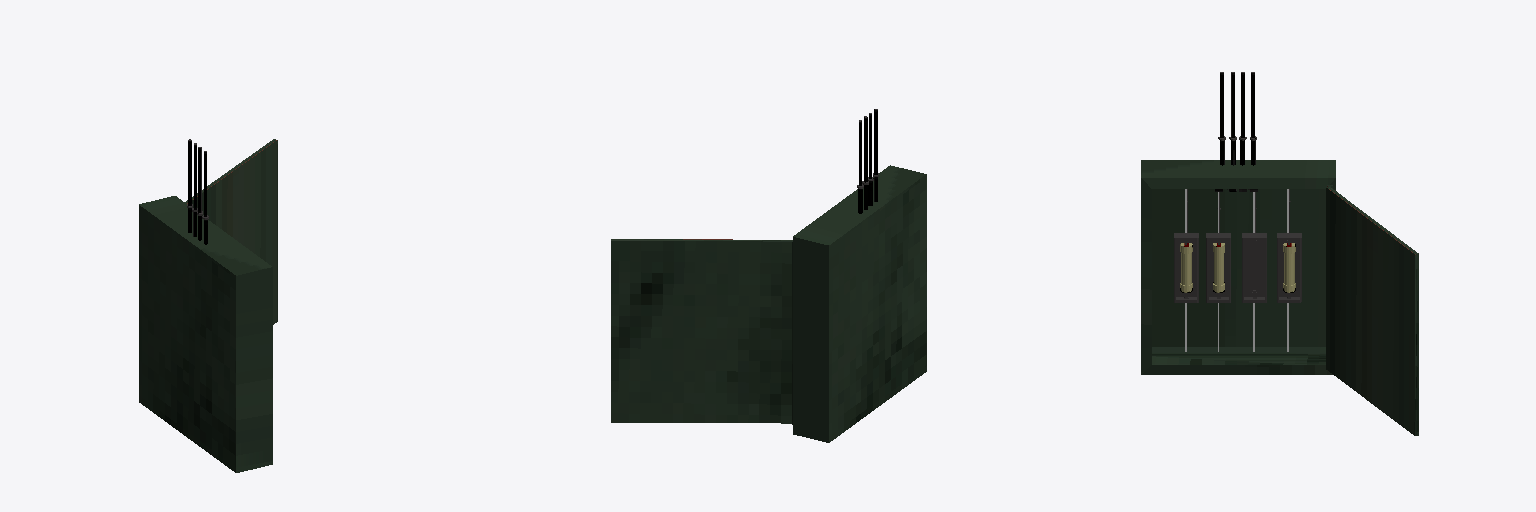
3 views of the same model, side by side, from view 1: azimuth 30°, elevation 25°; view 2: azimuth 150°, elevation 25°; view 3: azimuth 270°, elevation 25° (orthographic).
Visible parts, largest first — view 1: Cube_Cube.035, Cube.009_Cube.009; view 2: Cube.009_Cube.009, Cube_Cube.035; view 3: Cube_Cube.035, Cube.009_Cube.009, Cube.036_Cube.002, Cube.034_Cube.002, Cube.032_Cube.002, Cube.038_Cube.002, Cube.031_Cube.002, Cube.037_Cube.002, Cube.033_Cube.003.
Boxes of the visible parts, x1=… form: Cube_Cube.035: x1=139, y1=196, x2=272, y2=472; Cube.009_Cube.009: x1=185, y1=139, x2=277, y2=324; Cube.009_Cube.009: x1=611, y1=239, x2=792, y2=423; Cube_Cube.035: x1=793, y1=165, x2=926, y2=442; Cube_Cube.035: x1=1141, y1=160, x2=1335, y2=374; Cube.009_Cube.009: x1=1326, y1=187, x2=1418, y2=435; Cube.036_Cube.002: x1=1242, y1=233, x2=1266, y2=302; Cube.034_Cube.002: x1=1206, y1=233, x2=1230, y2=302; Cube.032_Cube.002: x1=1174, y1=233, x2=1198, y2=302; Cube.038_Cube.002: x1=1277, y1=233, x2=1301, y2=302; Cube.031_Cube.002: x1=1180, y1=243, x2=1192, y2=292; Cube.037_Cube.002: x1=1283, y1=243, x2=1295, y2=292; Cube.033_Cube.003: x1=1213, y1=243, x2=1224, y2=292.
Bounding box in the file's own units: 0.8588 × 1.33 × 1.16.
4 materials, 3 textured.